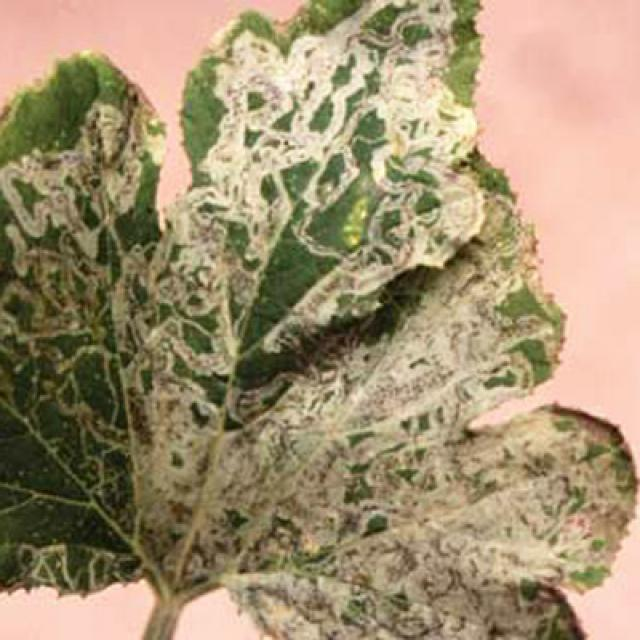Serpentine leafminer: (0, 0, 640, 640)
